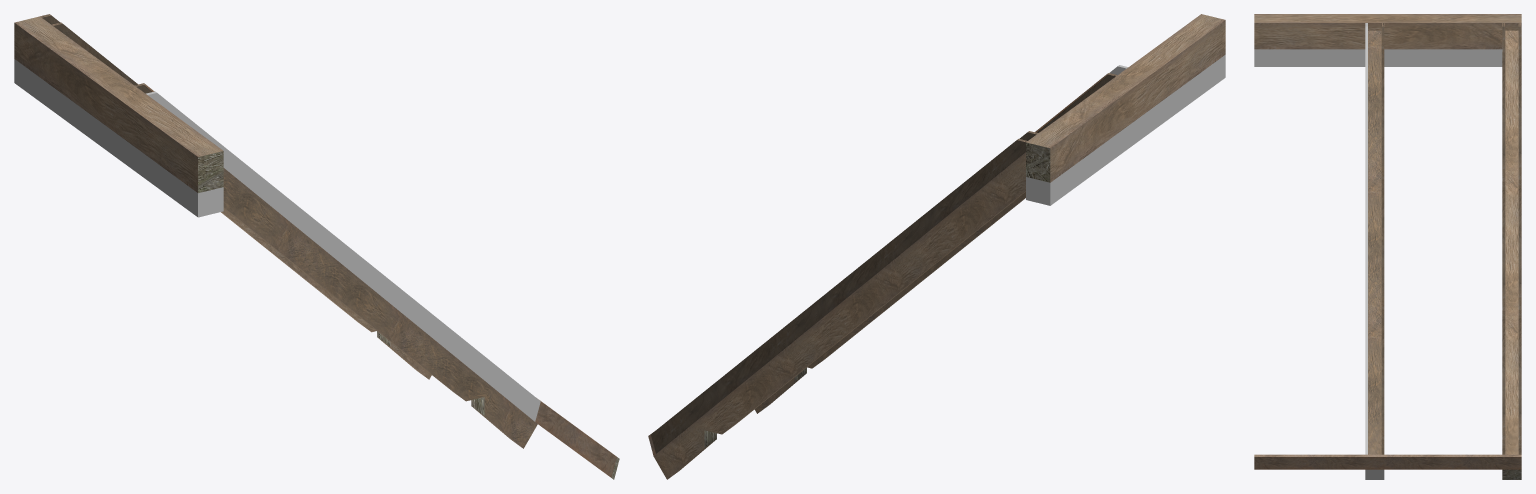
Rendered from RafterCapA.fbx.
The picture shows the model from 3 angles, left to right: view 1: azimuth 30°, elevation 25°; view 2: azimuth 150°, elevation 25°; view 3: azimuth 270°, elevation 25°; orthographic projection. The views are drawn at different scales.
Parts seen in each view (by area): view 1: RafterCapA; view 2: RafterCapA; view 3: RafterCapA.
Part boxes in pixels (bbox=[...]): RafterCapA: bbox=[14, 14, 619, 479]; RafterCapA: bbox=[648, 14, 1225, 479]; RafterCapA: bbox=[1254, 14, 1521, 479].
Size of the model in its own units: 495 by 500 by 374.
